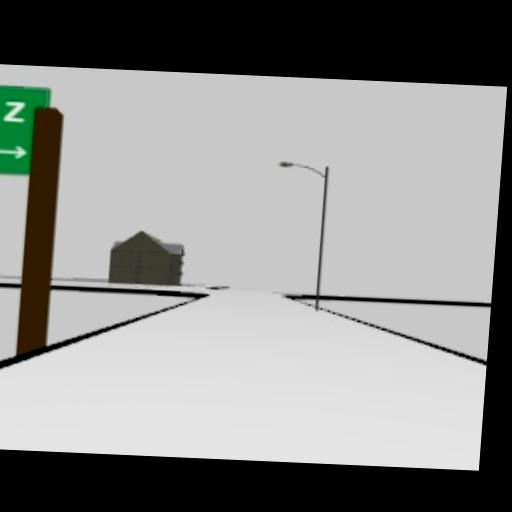Right: (0, 144, 28, 160)
Z: (2, 100, 28, 122)
